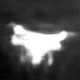plane: (6, 21, 76, 67)
